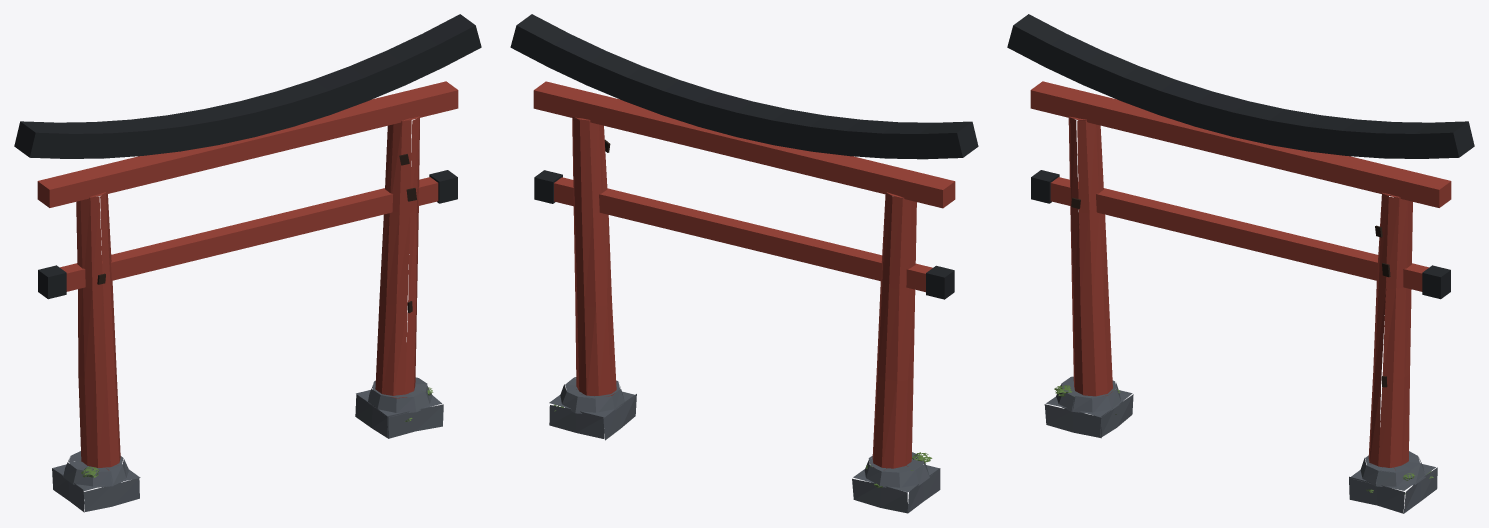
File: 2-05_torii_large.glb
3 views of the same model, side by side, from view 1: azimuth 30°, elevation 25°; view 2: azimuth 150°, elevation 25°; view 3: azimuth 330°, elevation 25° (orthographic).
Visible parts, largest first — view 1: 鳥居（大）; view 2: 鳥居（大）; view 3: 鳥居（大）.
Boxes of the visible parts, box(x1,y1,x2,y2) form: 鳥居（大）: box(14, 14, 481, 512); 鳥居（大）: box(510, 14, 978, 513); 鳥居（大）: box(1007, 14, 1474, 513).
Size of the model in its own units: 7.74 by 6.3 by 1.04.
